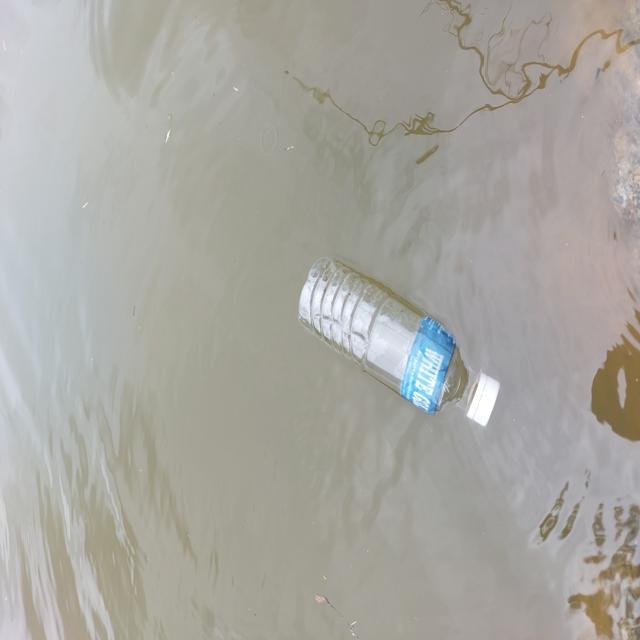waterbottle: (288, 241, 509, 449)
